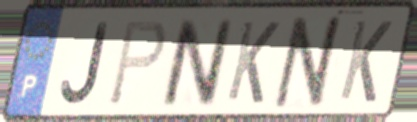J: (59, 21, 111, 107)
K: (336, 17, 395, 106), (223, 18, 282, 107)
N: (269, 13, 350, 111), (160, 17, 235, 109)
P: (105, 18, 169, 109)
